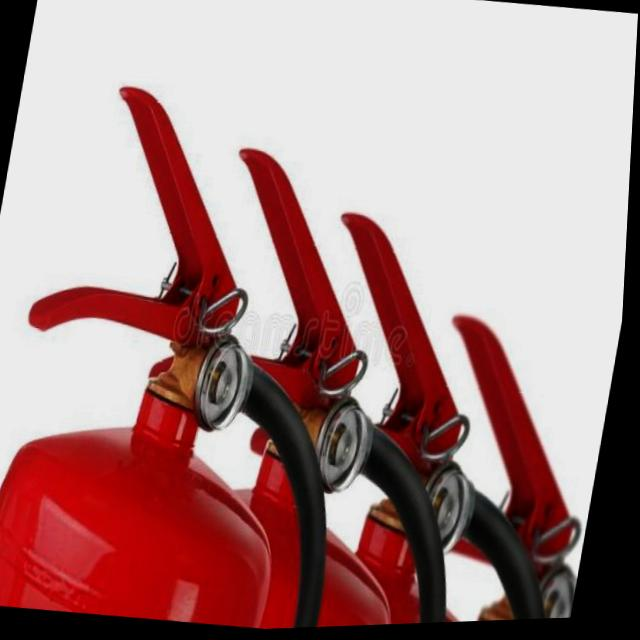FireExtinguisher: (0, 59, 414, 640), (121, 128, 532, 636), (258, 191, 631, 632), (371, 303, 624, 628)
